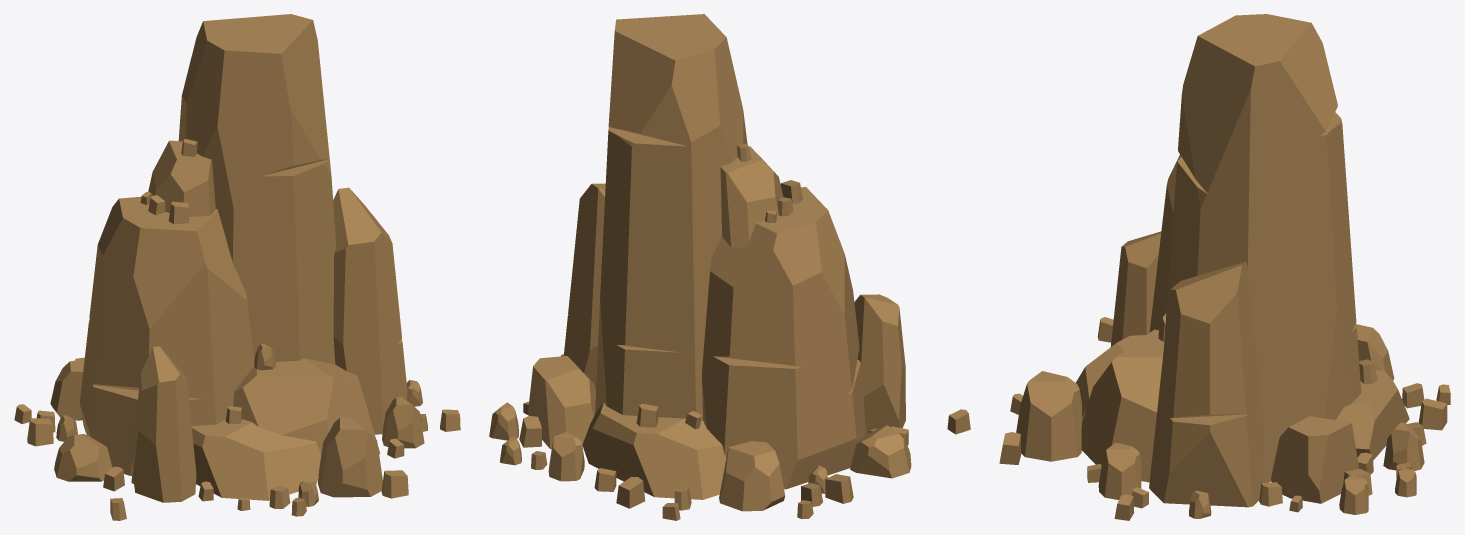
Rendered from roca04.fbx.
3 views of the same model, side by side, from view 1: azimuth 30°, elevation 25°; view 2: azimuth 150°, elevation 25°; view 3: azimuth 270°, elevation 25° (orthographic). The views are drawn at different scales.
Visible parts, largest first — view 1: big_rock_04_Cylinder_143; view 2: big_rock_04_Cylinder_143; view 3: big_rock_04_Cylinder_143.
Part boxes in pixels (x1,y1,x2,y2): big_rock_04_Cylinder_143: (14, 14, 460, 520); big_rock_04_Cylinder_143: (489, 14, 970, 520); big_rock_04_Cylinder_143: (999, 14, 1450, 520).
Size of the model in its own units: 168 by 172 by 171.
